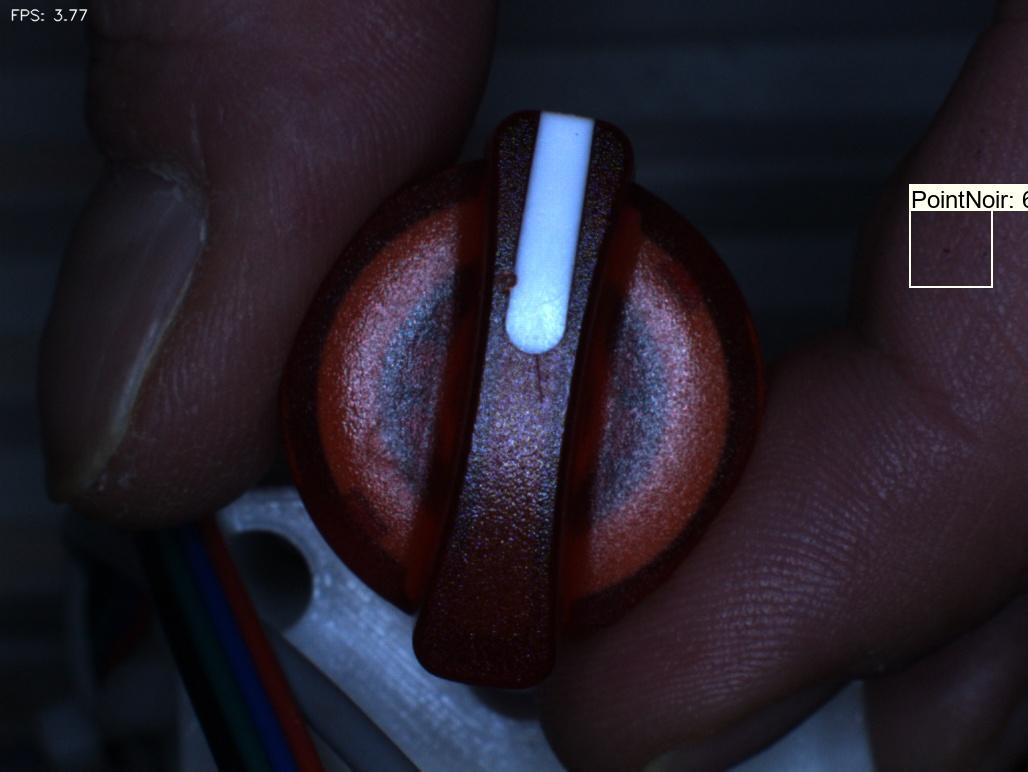Choc: (467, 235, 541, 318)
